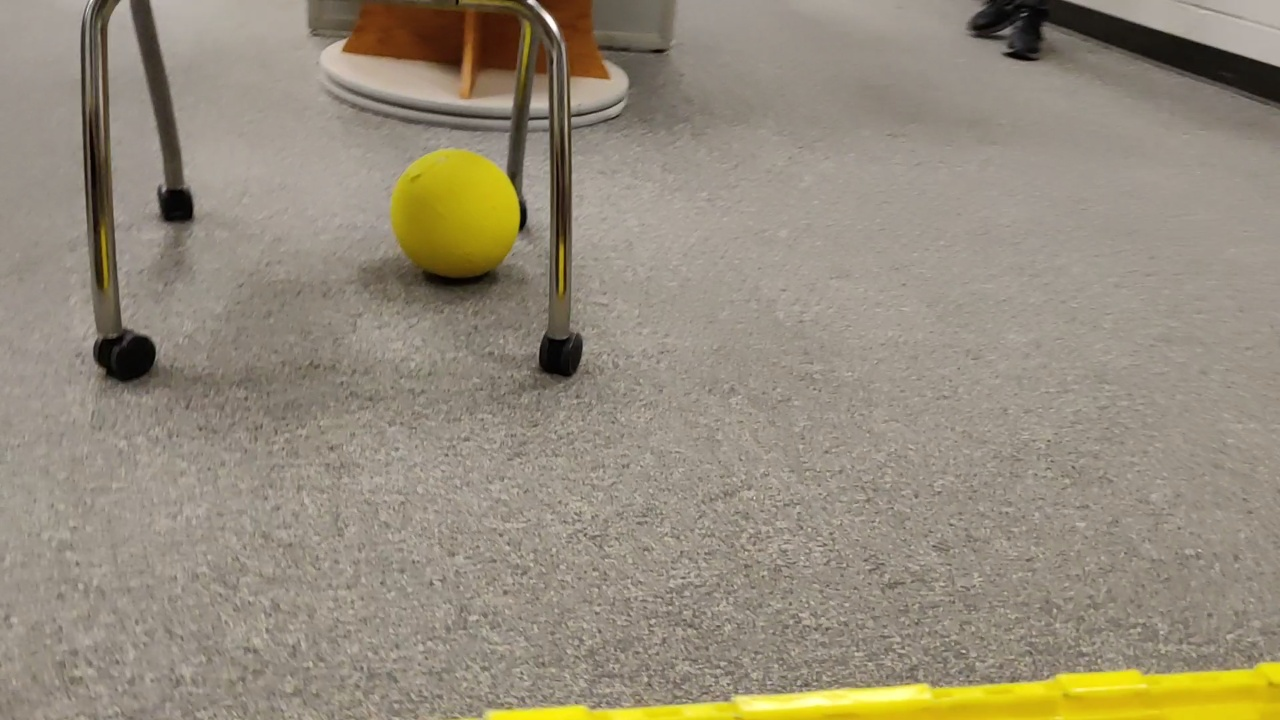Ball: (392, 149, 522, 282)
